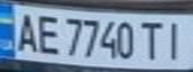0: (115, 18, 139, 61)
4: (100, 17, 121, 60)
7: (60, 15, 84, 57), (78, 16, 100, 58)
A: (9, 9, 42, 53)
E: (33, 10, 63, 55)
I: (160, 17, 193, 62)
T: (136, 18, 166, 61)
